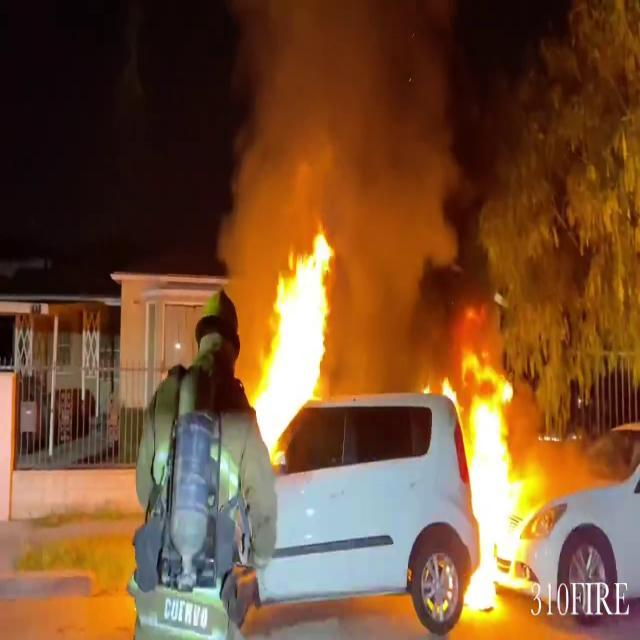Fire: (438, 344, 534, 620), (248, 222, 342, 458)
Smoke: (206, 0, 498, 326)
